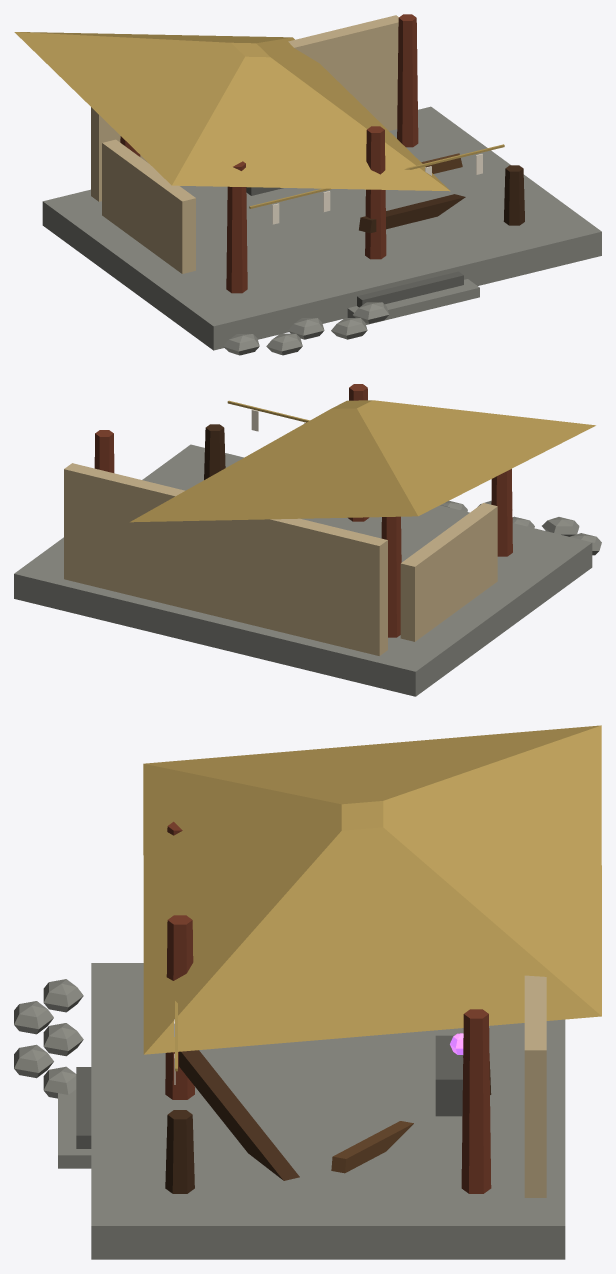
File: prop_ruined_shrine.glb
3 renders of one model, top to bottom at view 1: azimuth 30°, elevation 25°; view 2: azimuth 150°, elevation 25°; view 3: azimuth 270°, elevation 25°, orthographic. The views are drawn at different scales.
Parts seen in each view (by area): view 1: prop_ruined_shrine; view 2: prop_ruined_shrine; view 3: prop_ruined_shrine.
Part boxes in pixels (box(x1,y1,x2,y2)): prop_ruined_shrine: box(14, 14, 601, 355); prop_ruined_shrine: box(14, 384, 601, 696); prop_ruined_shrine: box(14, 725, 601, 1259).
Bounding box in the file's own units: 8.9 × 4.15 × 7.94.
